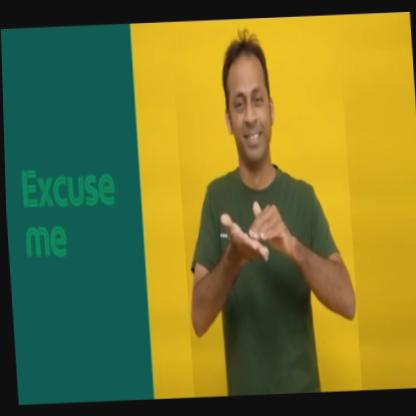ExcuseMe: (171, 23, 360, 403)
